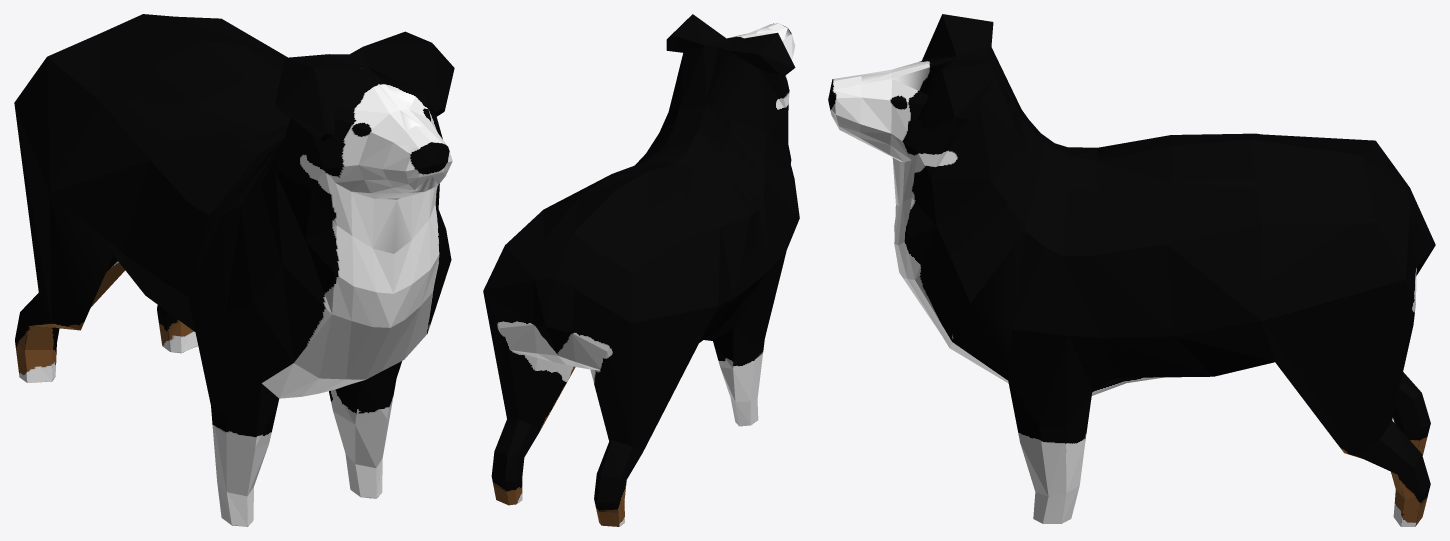
Rendered from buel.glb.
3 renders of one model, left to right at view 1: azimuth 30°, elevation 25°; view 2: azimuth 150°, elevation 25°; view 3: azimuth 270°, elevation 25°, orthographic. The views are drawn at different scales.
Parts seen in each view (by area): view 1: Object_7; view 2: Object_7; view 3: Object_7.
Part boxes in pixels (box(x1,y1,x2,y2)): Object_7: box(14, 14, 454, 526); Object_7: box(483, 14, 799, 526); Object_7: box(828, 14, 1435, 526).
Bounding box in the file's own units: 2.56 × 4.18 × 5.06.
1 material, 1 textured.
